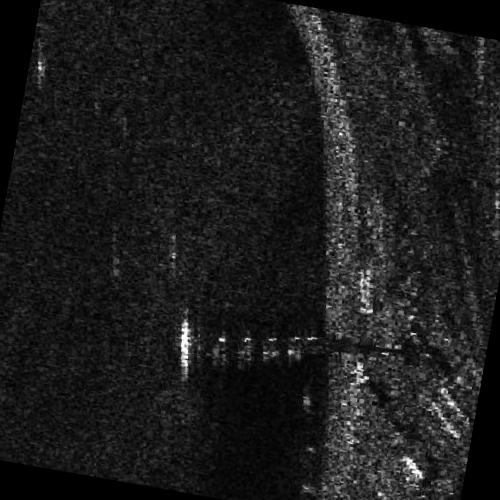ship: (178, 315, 190, 381)
